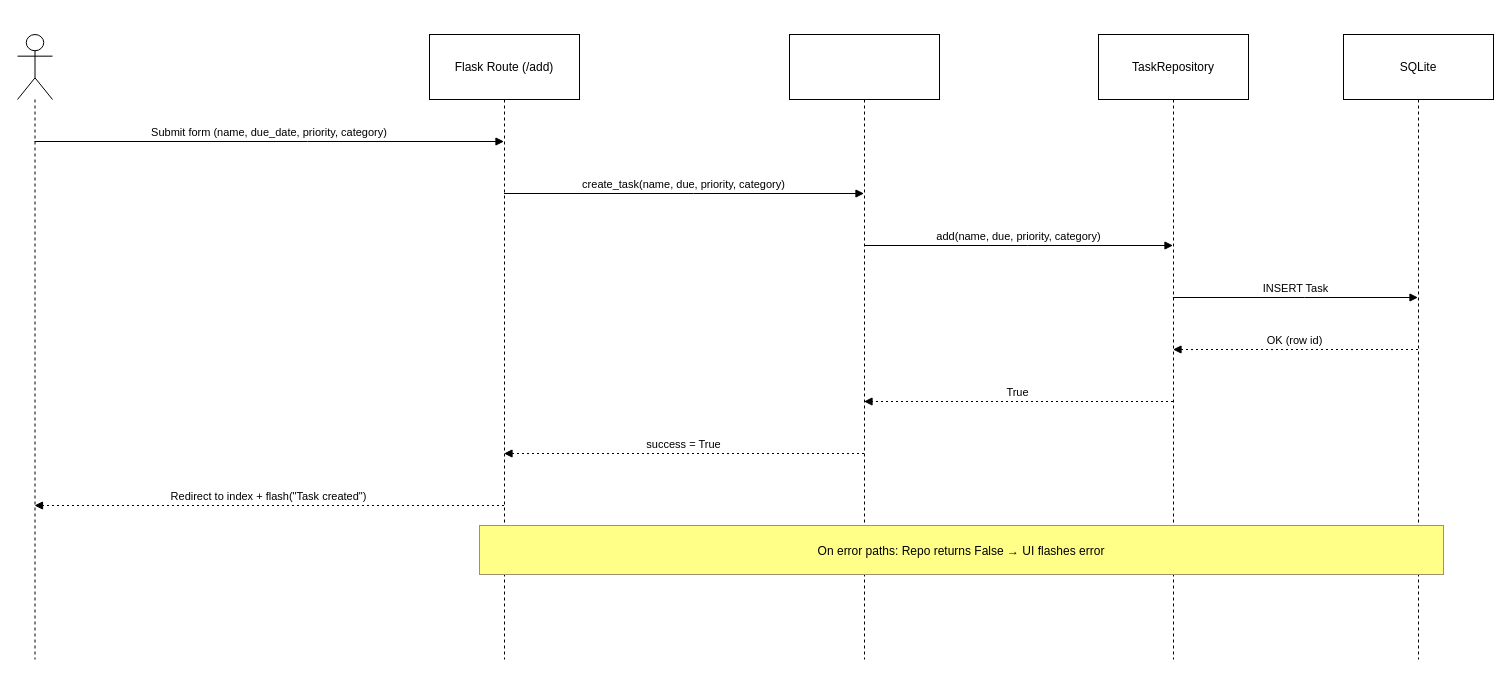
Image size: 1511x677. Some labels were removed from this diagram. Each missing label, with the box of its shape:
TaskService: (788, 34, 940, 660)
User: (16, 34, 52, 660)
